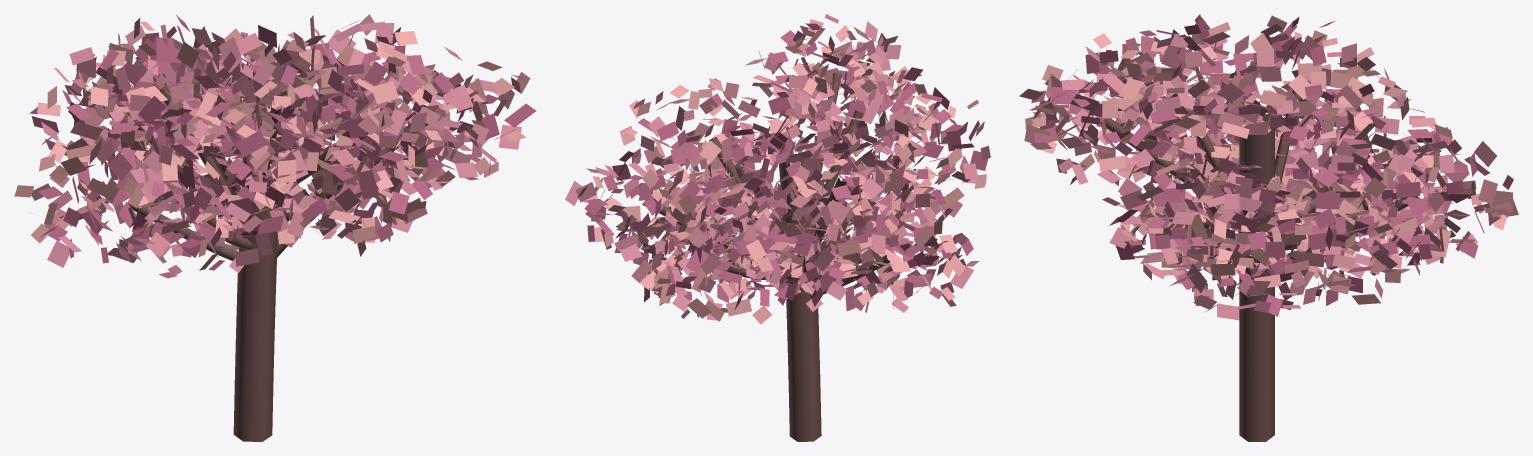
File: flowering-tree.glb
3 views of the same model, side by side, from view 1: azimuth 30°, elevation 25°; view 2: azimuth 150°, elevation 25°; view 3: azimuth 270°, elevation 25° (orthographic). The views are drawn at different scales.
Parts seen in each view (by area): view 1: Leaves_0, Leaves_2, Leaves_1, BranchNetwork; view 2: Leaves_0, Leaves_2, Leaves_1, BranchNetwork; view 3: Leaves_0, Leaves_2, Leaves_1, BranchNetwork.
Boxes of the visible parts, <box> form: Leaves_0: <box>39,18,521,275</box>; Leaves_2: <box>29,15,536,278</box>; Leaves_1: <box>14,14,530,270</box>; BranchNetwork: <box>128,84,427,441</box>; Leaves_0: <box>565,14,990,320</box>; Leaves_2: <box>577,23,987,311</box>; Leaves_1: <box>586,19,986,324</box>; BranchNetwork: <box>659,73,916,441</box>; Leaves_0: <box>1019,21,1512,320</box>; Leaves_2: <box>1033,14,1513,316</box>; Leaves_1: <box>1024,15,1518,305</box>; BranchNetwork: <box>1100,90,1419,441</box>.
Bounding box in the file's own units: 6.31 × 5.61 × 6.48.
